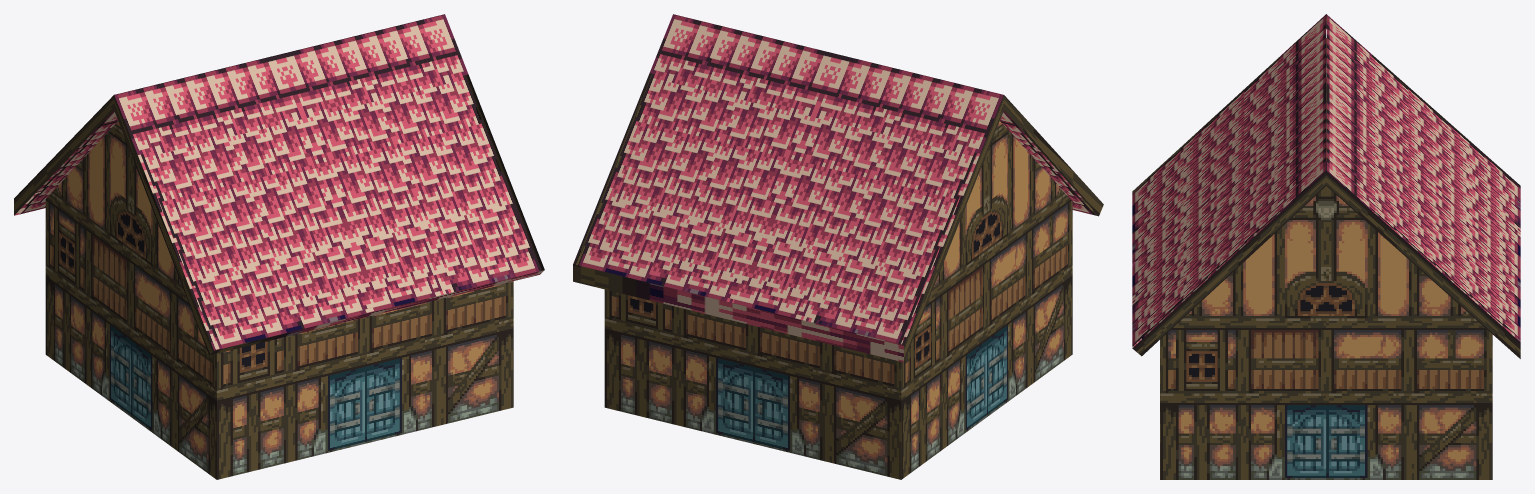
The model's file is house_trial.fbx.
The picture shows the model from 3 angles, left to right: view 1: azimuth 30°, elevation 25°; view 2: azimuth 150°, elevation 25°; view 3: azimuth 270°, elevation 25°; orthographic projection. The views are drawn at different scales.
Visible parts, largest first — view 1: Cube.001, Cube; view 2: Cube.001, Cube; view 3: Cube, Cube.001.
Part boxes in pixels (x1=…): Cube.001: x1=14, y1=14, x2=544, y2=355; Cube: x1=45, y1=121, x2=513, y2=479; Cube.001: x1=573, y1=14, x2=1103, y2=362; Cube: x1=604, y1=121, x2=1072, y2=479; Cube: x1=1160, y1=38, x2=1492, y2=479; Cube.001: x1=1132, y1=14, x2=1520, y2=358.
Size of the model in its own units: 935 by 892 by 842.
